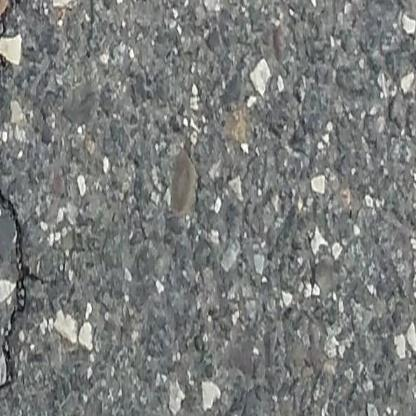Cracks: (0, 0, 41, 416)
